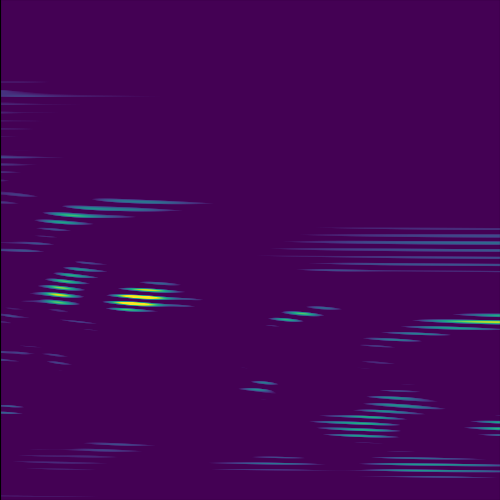semblance: (105, 277, 192, 320)
